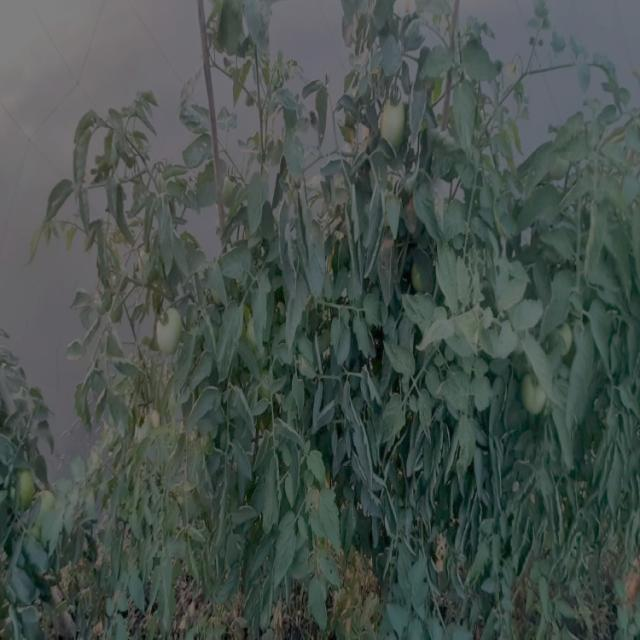tomato: (375, 93, 415, 155), (516, 366, 548, 419), (10, 464, 39, 508), (153, 302, 182, 344), (548, 315, 576, 357), (32, 493, 62, 523), (406, 258, 425, 297)
